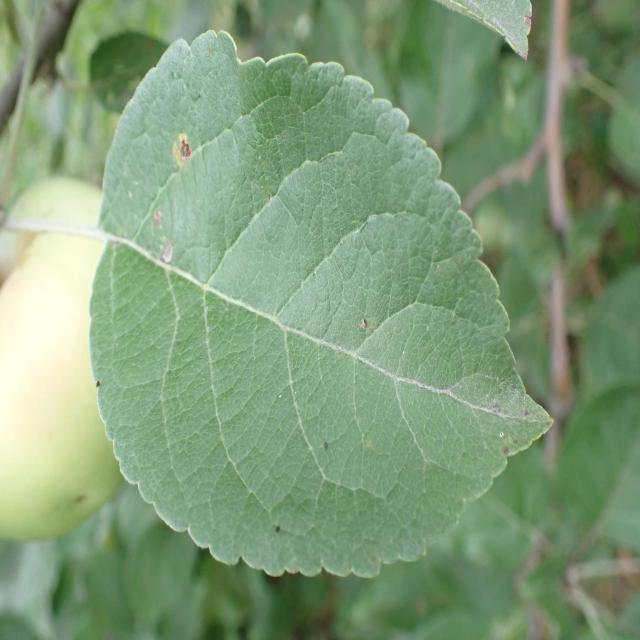frog-eye-leaf-spot: (87, 28, 557, 584)
